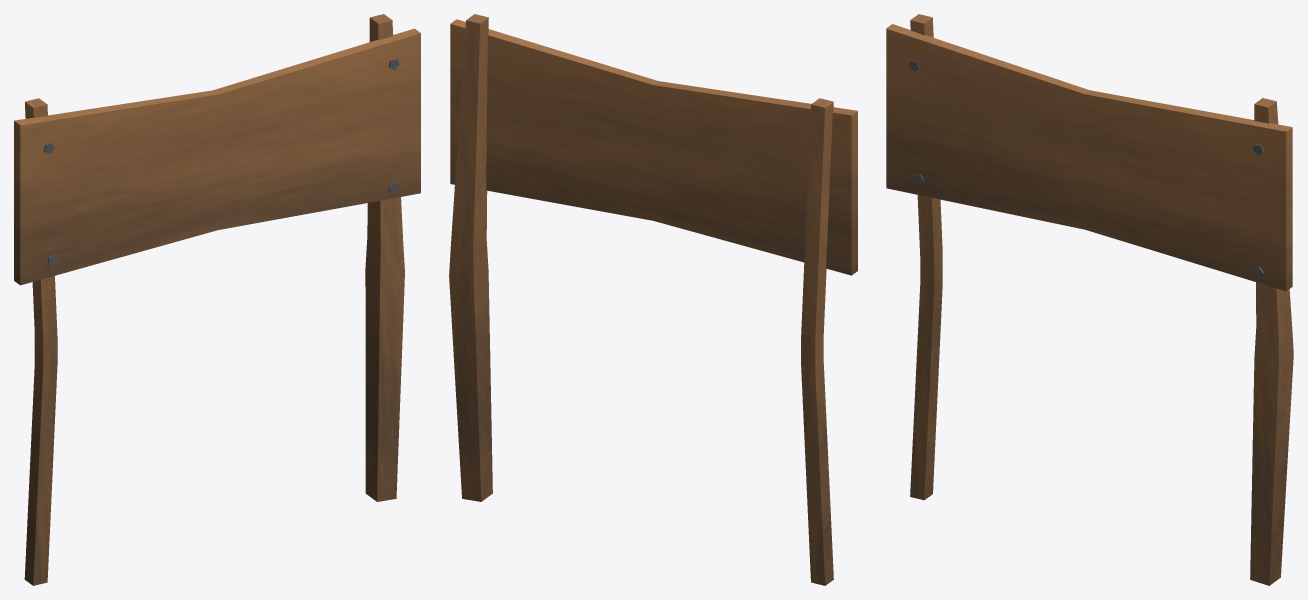
The model's file is miiru-signboard-05.glb.
3 views of the same model, side by side, from view 1: azimuth 30°, elevation 25°; view 2: azimuth 150°, elevation 25°; view 3: azimuth 330°, elevation 25° (orthographic).
Visible parts, largest first — view 1: Signboard_05.001; view 2: Signboard_05.001; view 3: Signboard_05.001.
Part boxes in pixels (x1,y1,x2,y2): Signboard_05.001: (14,14,420,585); Signboard_05.001: (449,14,857,585); Signboard_05.001: (886,14,1293,585).
Size of the model in its own units: 1.87 by 2.13 by 0.1624.
Materials: 1 (1 with a texture image).
